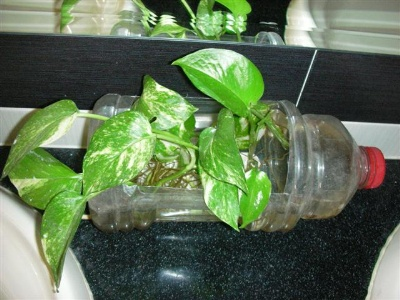bottle: (83, 94, 386, 234)
